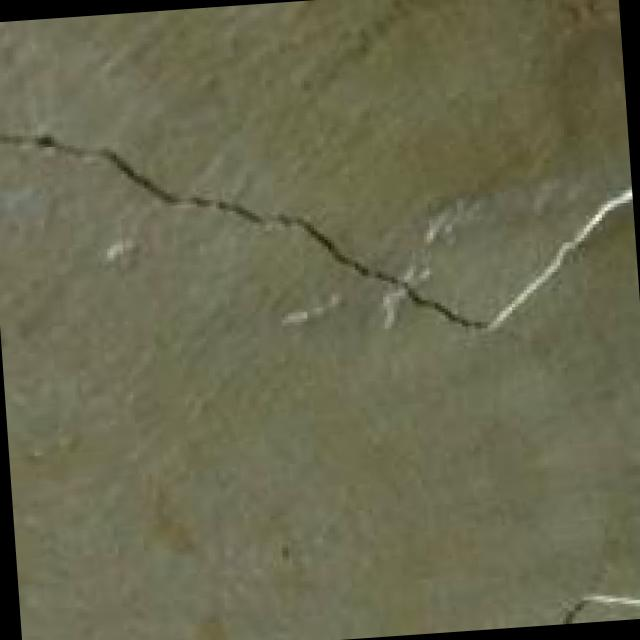crack: (0, 39, 640, 437)
